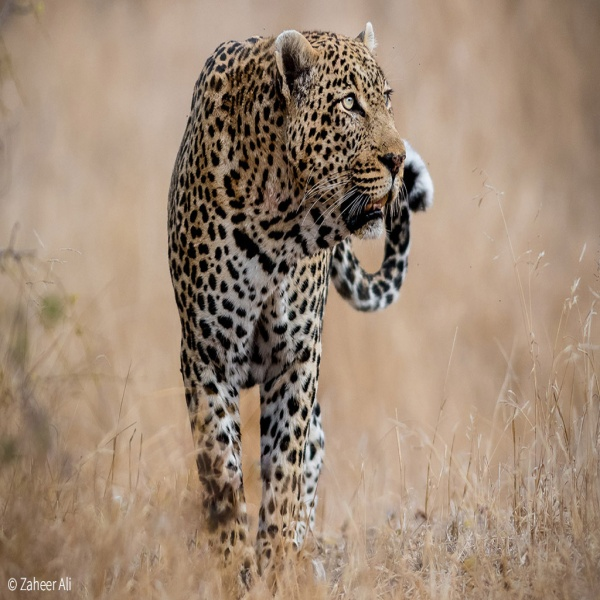Leopard: (160, 14, 439, 600)
